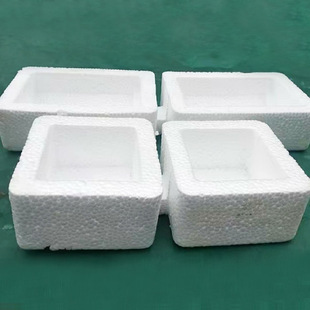Boxes: (0, 67, 310, 249), (161, 72, 309, 149)
